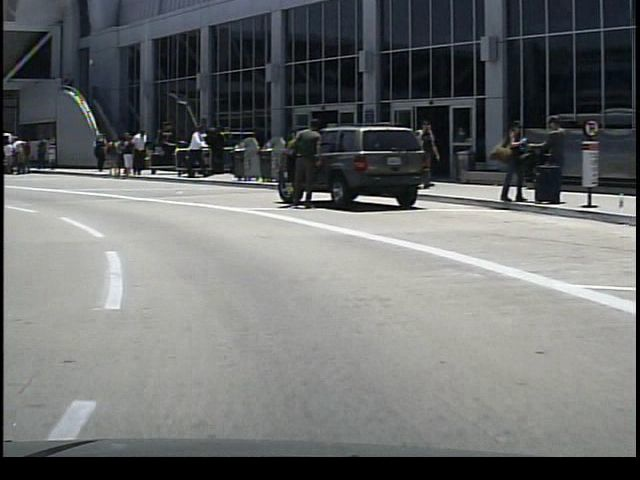person: (284, 117, 321, 218), (530, 113, 569, 203), (493, 115, 527, 205), (410, 118, 445, 191), (183, 122, 207, 182), (113, 131, 133, 181), (28, 130, 49, 177), (129, 127, 146, 179), (86, 131, 105, 176), (10, 132, 29, 176)
